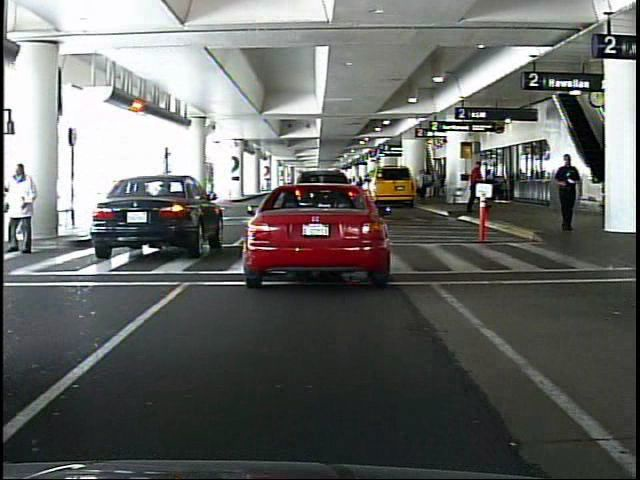person: (12, 162, 42, 256), (553, 152, 580, 234), (465, 163, 484, 216), (417, 166, 430, 202)
